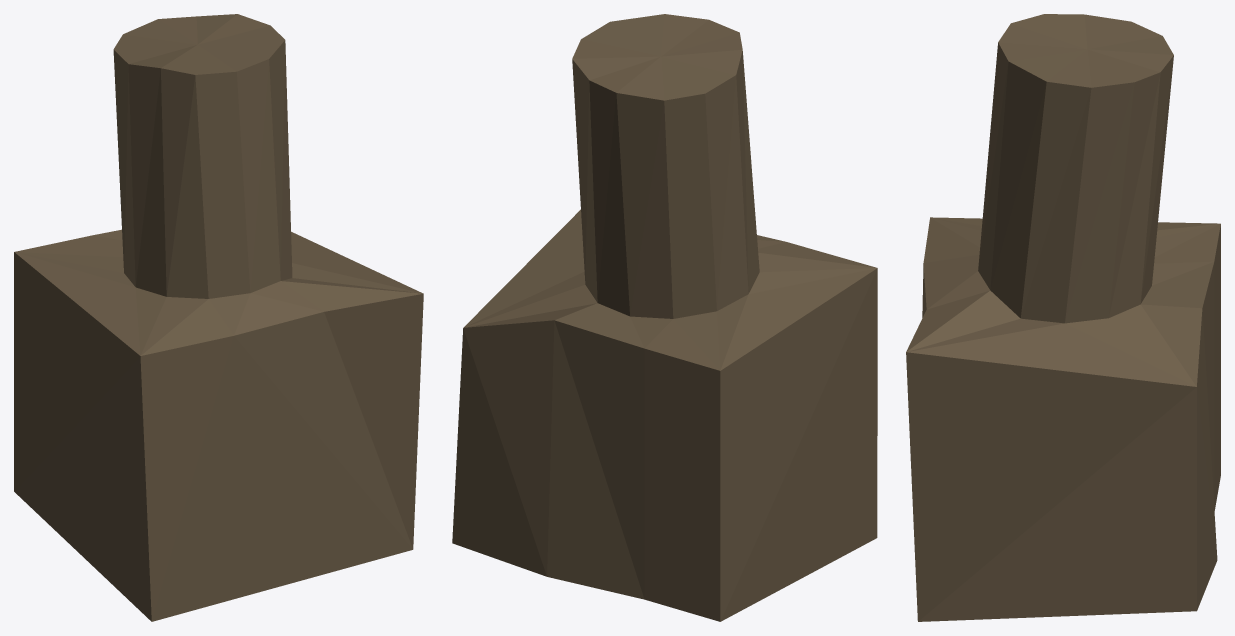
File: ADDON_MAYA_PILLAR_02.OBJ
3 views of the same model, side by side, from view 1: azimuth 30°, elevation 25°; view 2: azimuth 150°, elevation 25°; view 3: azimuth 270°, elevation 25° (orthographic). The views are drawn at different scales.
Parts seen in each view (by area): view 1: ADDON_MAYA_PILLAR_02; view 2: ADDON_MAYA_PILLAR_02; view 3: ADDON_MAYA_PILLAR_02.
Boxes of the visible parts, x1,y1,x2,y2 form: ADDON_MAYA_PILLAR_02: (14,14,423,621); ADDON_MAYA_PILLAR_02: (452,14,877,621); ADDON_MAYA_PILLAR_02: (906,14,1220,621).
Bounding box in the file's own units: 1.56 × 2.63 × 1.45.
